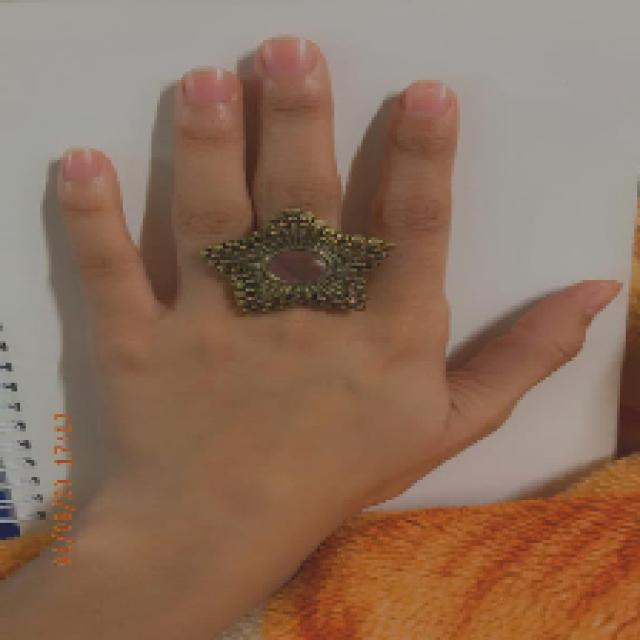Nail: (258, 36, 318, 74), (182, 68, 234, 103), (405, 81, 448, 118), (60, 149, 101, 179), (588, 281, 621, 317)
